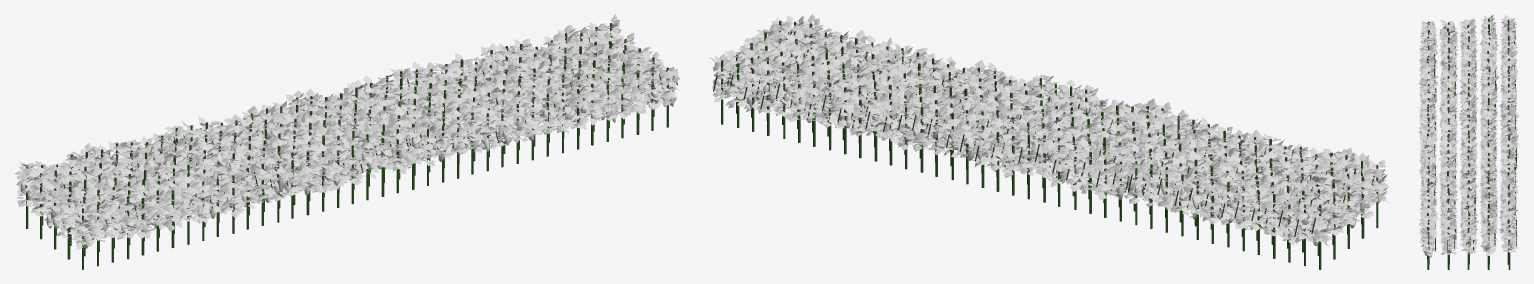
File: high_poly_pimiento_rows.fbx
3 views of the same model, side by side, from view 1: azimuth 30°, elevation 25°; view 2: azimuth 150°, elevation 25°; view 3: azimuth 270°, elevation 25° (orthographic). The views are drawn at different scales.
Visible parts, largest first — view 1: Pimiento_R01 P16, Pimiento_R01 P38, Pimiento_R01 P23, Pimiento_R01 P20, Pimiento_R01 P05, Pimiento_R02 P01, Pimiento_R01 P35, Pimiento_R04 P01, Pimiento_R01 P03, Pimiento_R01 P08, Pimiento_R01 P32, Pimiento_R01 P07 (+35 smaller); view 2: Pimiento_R05 P37, Pimiento_R05 P29, Pimiento_R05 P34, Pimiento_R05 P04, Pimiento_R05 P01, Pimiento_R05 P15, Pimiento_R02 P01, Pimiento_R05 P26, Pimiento_R05 P08, Pimiento_R05 P25, Pimiento_R05 P27, Pimiento_R05 P39 (+36 smaller); view 3: Pimiento_R02 P40, Pimiento_R01 P40, Pimiento_R03 P40, Pimiento_R05 P40, Pimiento_R04 P40, Pimiento_R01 P23, Pimiento_R05 P39, Pimiento_R01 P16, Pimiento_R02 P26, Pimiento_R02 P30, Pimiento_R04 P10, Pimiento_R01 P27 (+159 smaller).
Boxes of the visible parts, <box> form: Pimiento_R01 P16: <box>297,145,320,215</box>; Pimiento_R01 P38: <box>626,65,650,134</box>; Pimiento_R01 P23: <box>402,117,424,189</box>; Pimiento_R01 P20: <box>357,126,379,200</box>; Pimiento_R01 P05: <box>130,192,155,255</box>; Pimiento_R02 P01: <box>56,194,80,259</box>; Pimiento_R01 P35: <box>580,78,605,145</box>; Pimiento_R04 P01: <box>29,167,50,239</box>; Pimiento_R01 P03: <box>100,194,125,262</box>; Pimiento_R01 P08: <box>180,175,200,244</box>; Pimiento_R01 P32: <box>537,86,559,156</box>; Pimiento_R01 P07: <box>161,186,185,247</box>; Pimiento_R05 P37: <box>755,61,779,135</box>; Pimiento_R05 P29: <box>878,93,903,165</box>; Pimiento_R05 P34: <box>802,72,826,146</box>; Pimiento_R05 P04: <box>1261,184,1285,258</box>; Pimiento_R05 P01: <box>1308,198,1332,269</box>; Pimiento_R05 P15: <box>1091,153,1115,217</box>; Pimiento_R02 P01: <box>1350,169,1375,238</box>; Pimiento_R05 P26: <box>924,104,947,176</box>; Pimiento_R05 P08: <box>1200,180,1224,243</box>; Pimiento_R05 P25: <box>941,105,965,180</box>; Pimiento_R05 P27: <box>911,103,934,172</box>; Pimiento_R05 P39: <box>725,58,750,127</box>; Pimiento_R02 P40: <box>1439,221,1456,269</box>; Pimiento_R01 P40: <box>1420,223,1437,269</box>; Pimiento_R03 P40: <box>1460,224,1476,269</box>; Pimiento_R05 P40: <box>1501,223,1517,269</box>; Pimiento_R04 P40: <box>1480,225,1495,269</box>; Pimiento_R01 P23: <box>1420,129,1437,160</box>; Pimiento_R05 P39: <box>1499,215,1517,264</box>; Pimiento_R01 P16: <box>1418,92,1437,122</box>; Pimiento_R02 P26: <box>1439,145,1457,176</box>; Pimiento_R02 P30: <box>1438,166,1457,198</box>; Pimiento_R04 P10: <box>1480,62,1499,90</box>; Pimiento_R01 P27: <box>1419,152,1437,185</box>.
Size of the model in its own units: 19.98 by 2.22 by 4.05.
